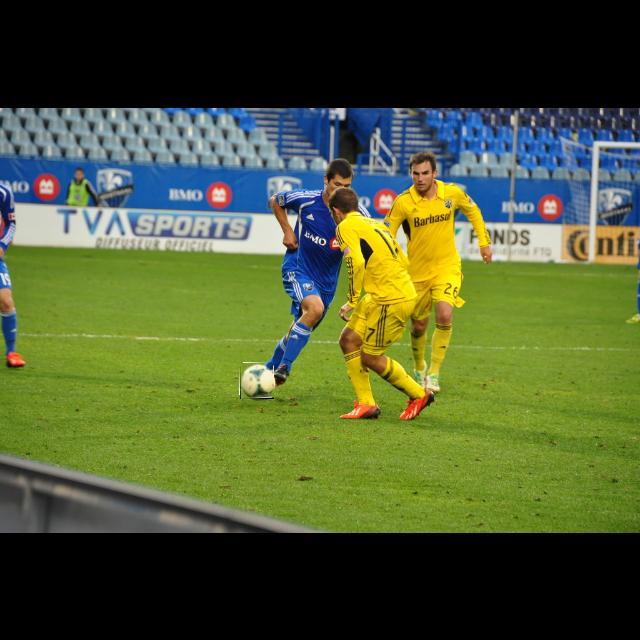Football: (240, 363, 274, 399)
